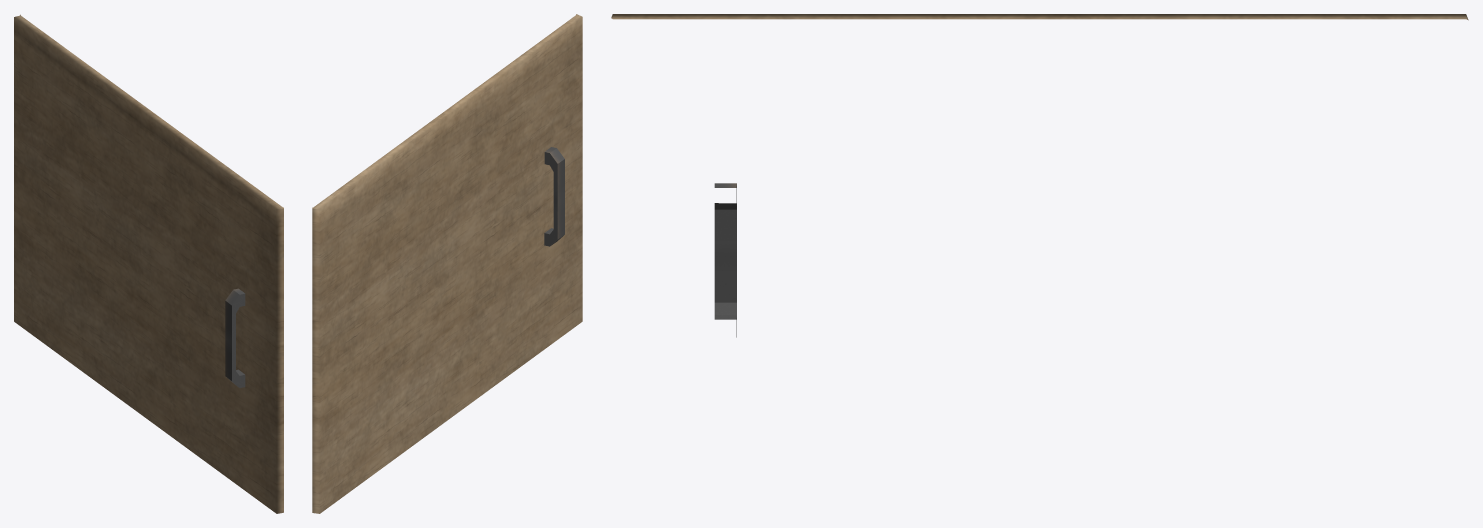
File: PBR - Metallic Roughness.glb
3 views of the same model, side by side, from view 1: azimuth 30°, elevation 25°; view 2: azimuth 150°, elevation 25°; view 3: azimuth 270°, elevation 25° (orthographic). The views are drawn at different scales.
Visible parts, largest first — view 1: doork; view 2: doork; view 3: doork.
Boxes of the visible parts, box(x1,y1,x2,y2) form: doork: box(14, 14, 283, 513); doork: box(312, 14, 582, 513); doork: box(611, 14, 1468, 337).
Size of the model in its own units: 0.1573 by 2.26 by 3.54.
Materials: 1 (1 with a texture image).
